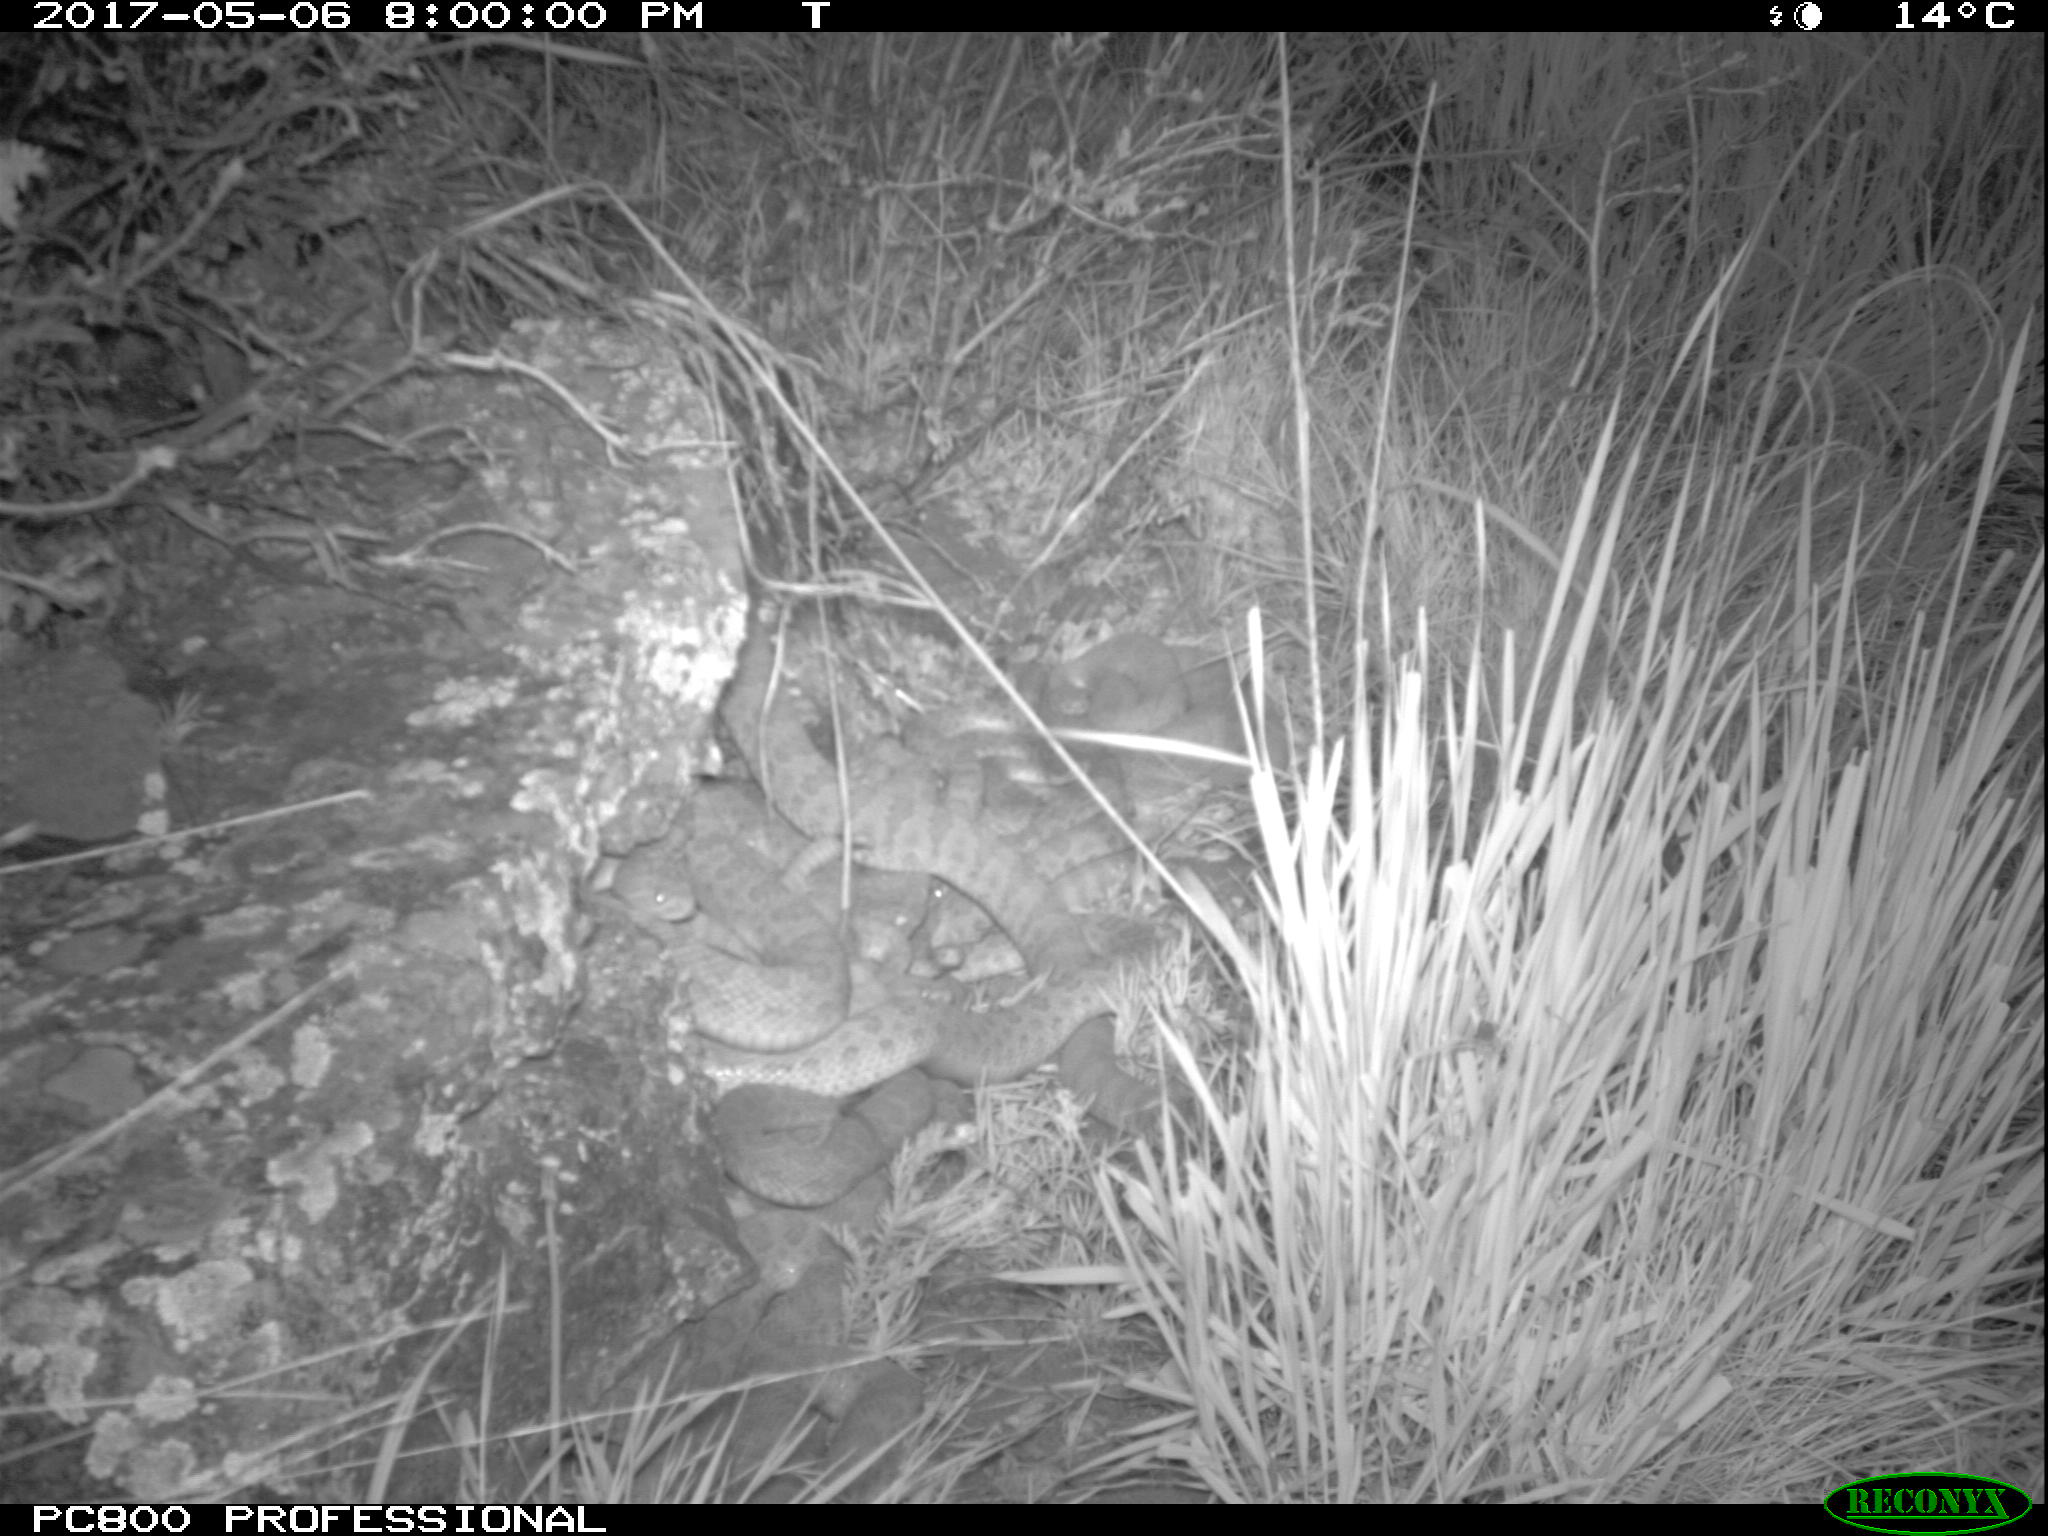snake: (713, 623, 1035, 834), (871, 878, 1168, 1070), (714, 1215, 930, 1465), (613, 833, 863, 1042), (706, 1071, 984, 1218), (1053, 629, 1288, 791), (1047, 1015, 1222, 1142)
